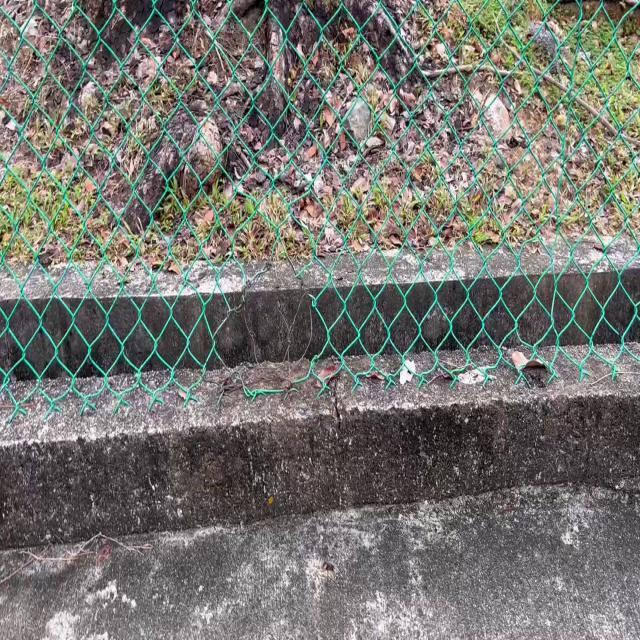fence line: (217, 248, 331, 399)
